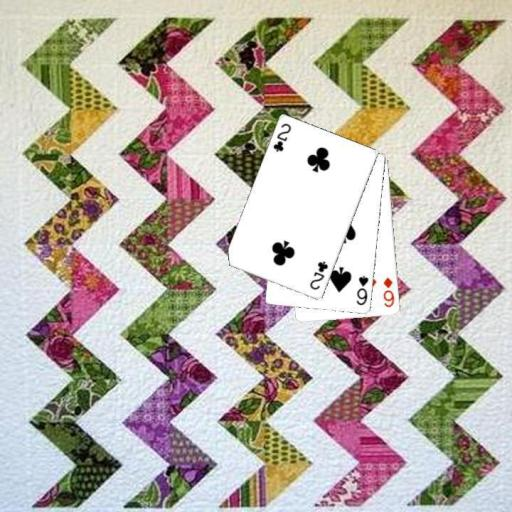card-corner: (306, 258, 330, 292), (270, 120, 293, 154), (353, 272, 370, 306), (381, 274, 396, 308)
